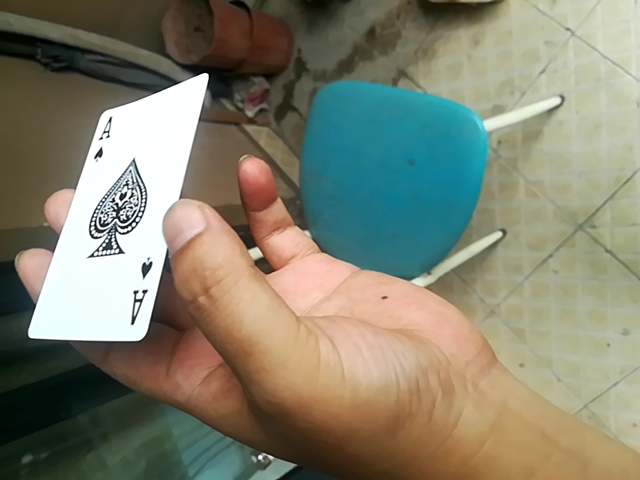ht a: (28, 65, 198, 351)
